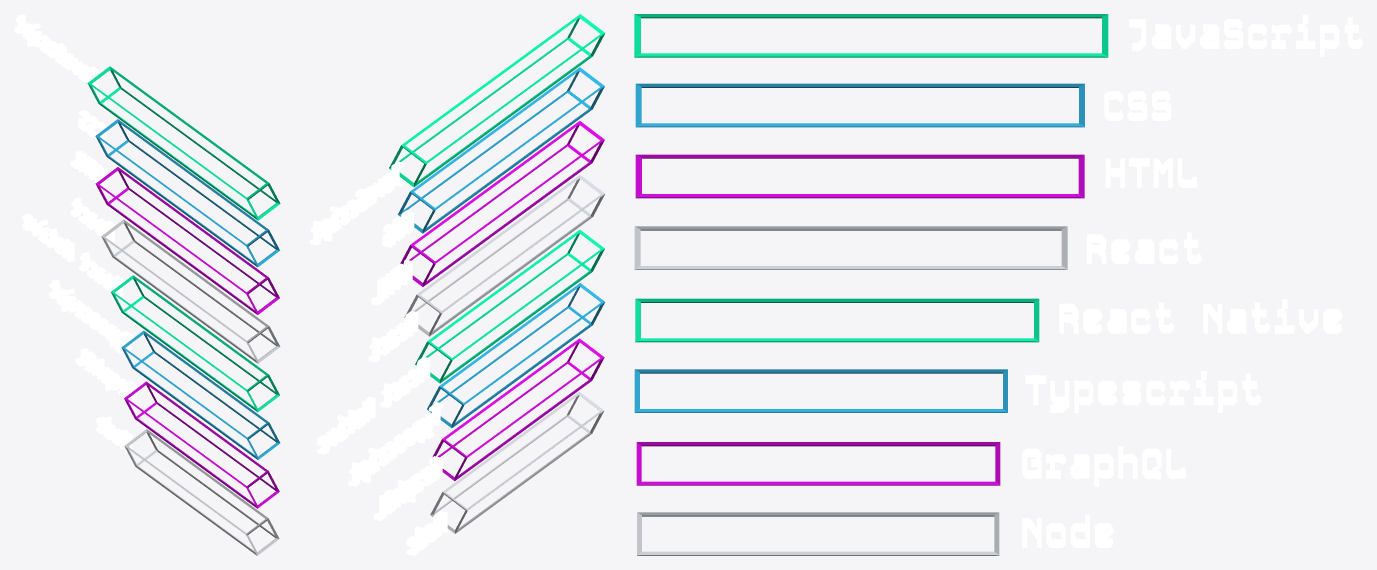
File: bars.glb
The picture shows the model from 3 angles, left to right: view 1: azimuth 30°, elevation 25°; view 2: azimuth 150°, elevation 25°; view 3: azimuth 270°, elevation 25°; orthographic projection. The views are drawn at different scales.
Parts seen in each view (by area): view 1: Cube.007, Cube.006, Cube.005, Cube.004, Cube.003, Cube, Cube.001, Cube.002, Text.012, Text.011, Text.016, Text.010 (+4 smaller); view 2: Cube.007, Cube.006, Cube.005, Cube.004, Cube.003, Cube, Cube.002, Cube.001, Text.012, Text.011, Text.016, Text.010 (+4 smaller); view 3: Cube.007, Cube.005, Cube.006, Cube.003, Text.012, Cube.004, Text.011, Cube.001, Cube.002, Text.016, Cube, Text.010 (+4 smaller).
Boxes of the visible parts, box(x1,y1,x2,y2) form: Cube.007: box(87, 66, 280, 220); Cube.006: box(95, 119, 279, 267); Cube.005: box(95, 167, 279, 314); Cube.004: box(101, 219, 280, 363); Cube.003: box(111, 275, 279, 412); Cube: box(121, 330, 280, 459); Cube.001: box(124, 381, 279, 508); Cube.002: box(124, 429, 279, 555); Text.012: box(22, 213, 122, 297); Text.011: box(48, 279, 133, 353); Text.016: box(14, 14, 98, 89); Text.010: box(75, 348, 136, 401); Cube.007: box(389, 14, 605, 187); Cube.006: box(397, 67, 604, 233); Cube.005: box(400, 121, 604, 286); Cube.004: box(404, 175, 604, 336); Cube.003: box(415, 230, 604, 383); Cube: box(427, 283, 604, 428); Cube.002: box(430, 391, 604, 533); Cube.001: box(432, 338, 604, 480); Text.012: box(316, 356, 430, 454); Text.011: box(348, 402, 443, 486); Text.016: box(309, 161, 404, 245); Text.010: box(374, 456, 442, 520); Cube.007: box(634, 14, 1108, 57); Cube.005: box(635, 154, 1084, 198); Cube.006: box(635, 83, 1084, 127); Cube.003: box(635, 298, 1039, 342); Text.012: box(1059, 299, 1342, 333); Cube.004: box(634, 226, 1067, 269); Text.011: box(1025, 371, 1260, 412); Cube.001: box(636, 442, 1000, 485); Cube.002: box(637, 512, 999, 555); Text.016: box(1129, 14, 1362, 56); Cube: box(634, 369, 1007, 412); Text.010: box(1022, 446, 1185, 486).
Bounding box in the file's own units: 2.84 × 30.1 × 36.1.
